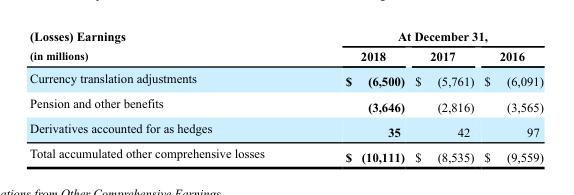table: (29, 28, 542, 163)
table column: (29, 28, 304, 163), (304, 28, 409, 163), (409, 28, 478, 163), (478, 28, 542, 163)
table column header: (29, 28, 542, 66)
table row: (29, 91, 542, 117), (29, 66, 542, 91), (29, 117, 542, 142), (29, 45, 542, 66), (29, 142, 542, 163), (29, 28, 542, 45)
table spanning cell: (29, 28, 304, 66), (304, 28, 542, 45)
